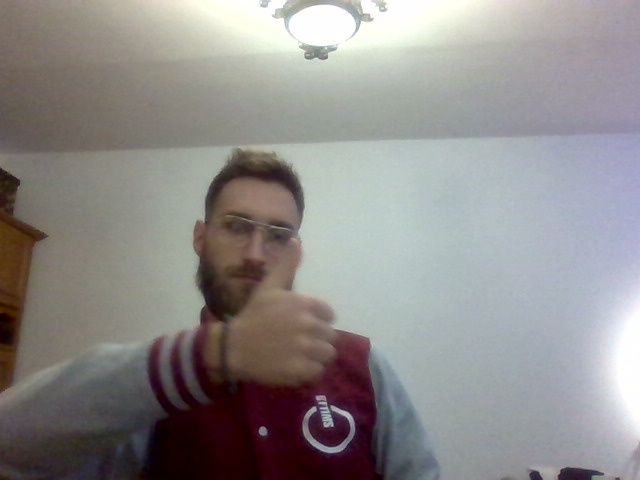ThumbsUp: (242, 238, 336, 384)
